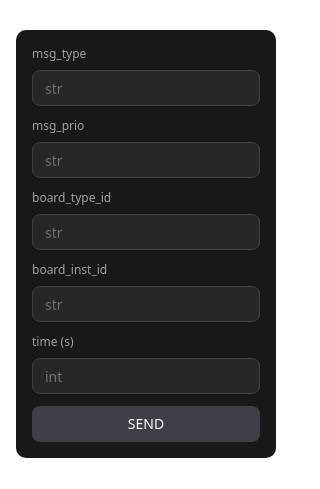
it: CanSender Component › clears time validation error when valid integer is entered
Type "notanumber" into the field labelled "time (s)" at (146, 376), box [32,358,260,394]
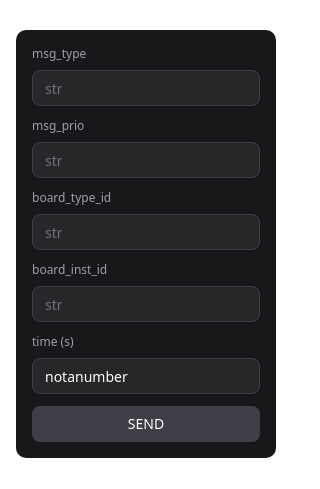
Click the button "SEND" at (146, 424), box [32,406,260,442]
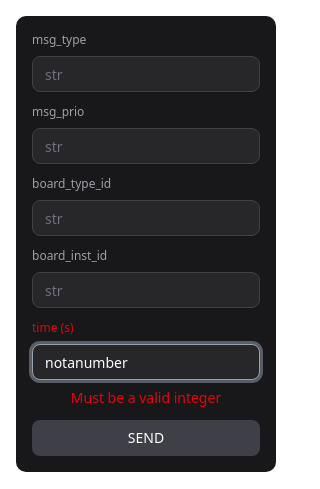
Now the text "Must be a valid integer" is shown, box [71,388,221,407]
Replace the text in the field labelled "time (s)" with "42" at (146, 362), box [32,344,260,380]
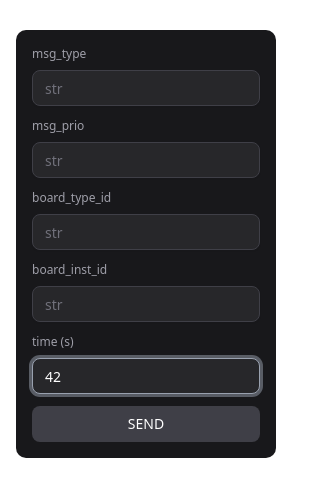
Now the text "Must be a valid integer" is gone
